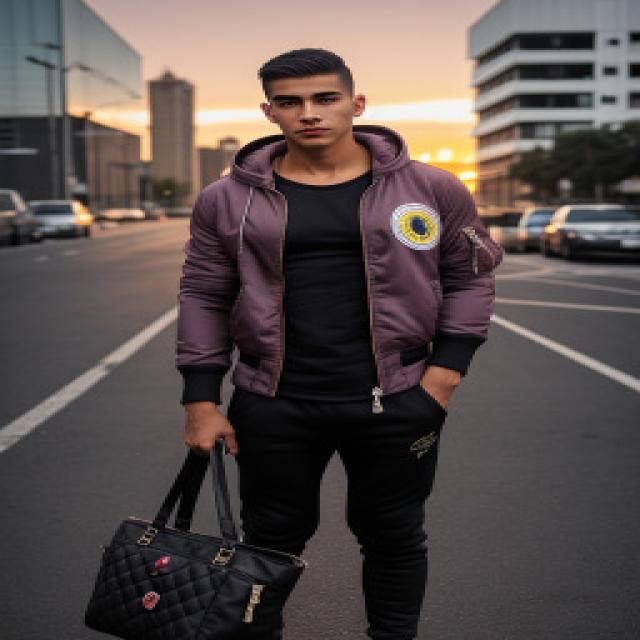Ai human 2: (130, 39, 500, 640)
